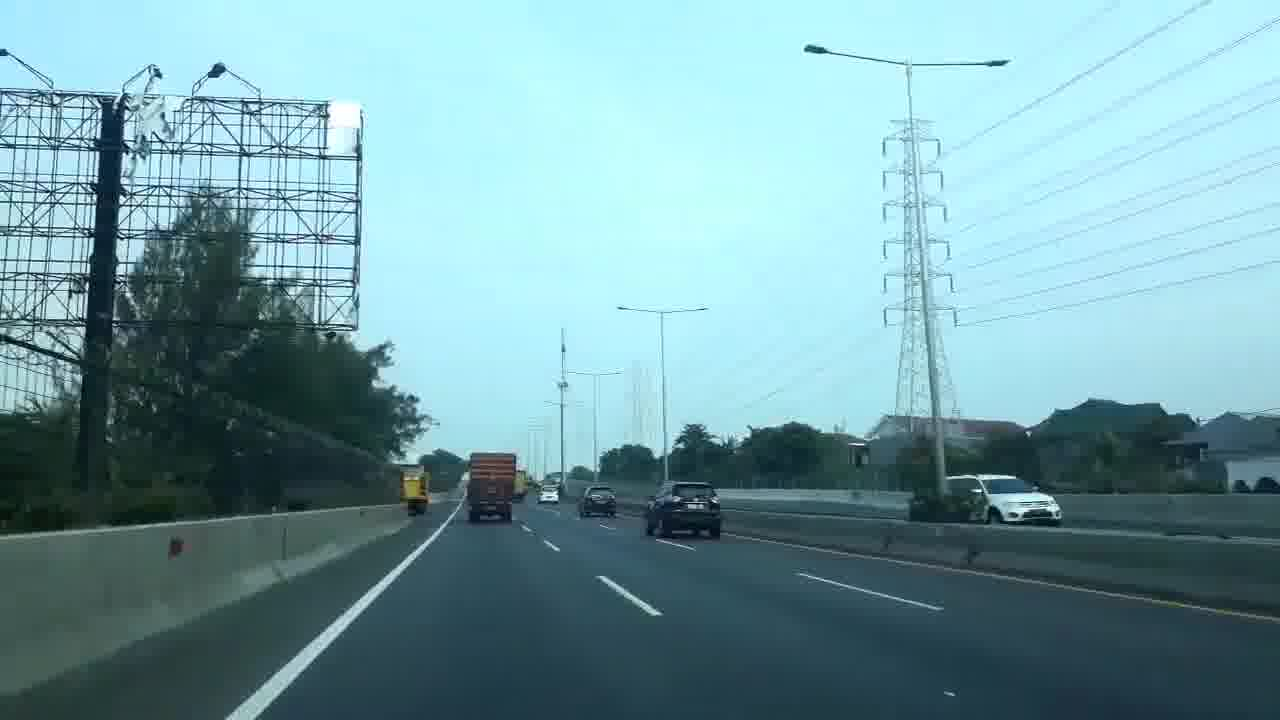plate_positive: (687, 503, 705, 510)
